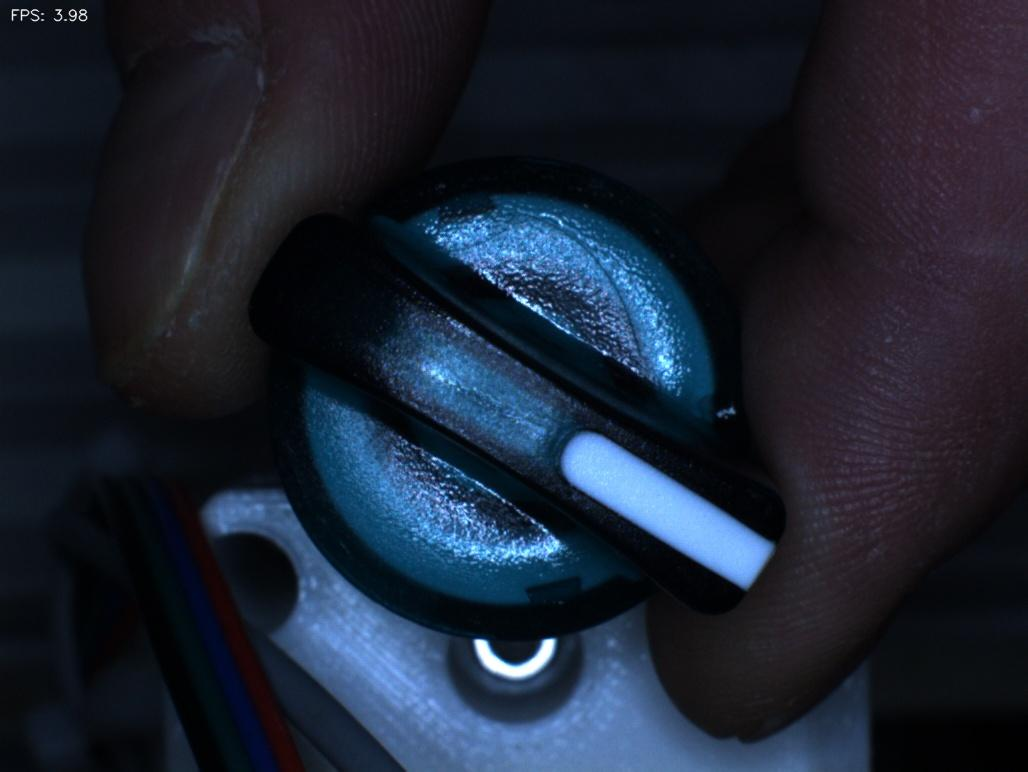Choc: (682, 364, 768, 454)
